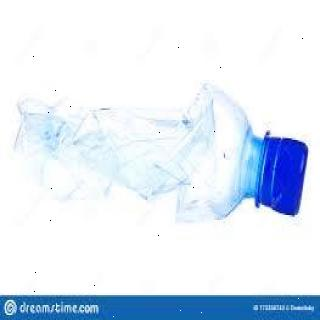Plastic-bottle: (10, 76, 311, 228)
